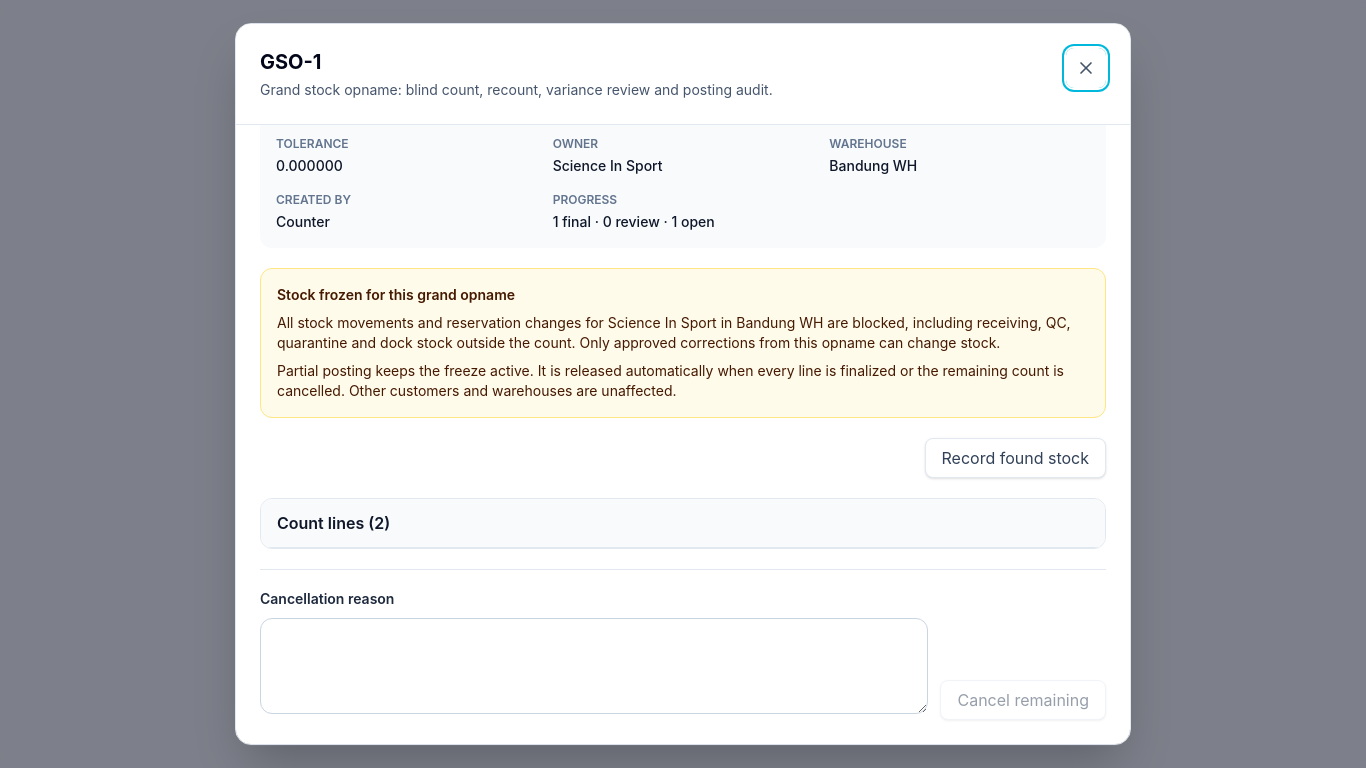
Scenario: keeps the customer and warehouse freeze visible during partial posting, then reflects cancellation
(page scrolled)
Expected: the message shows "Stock frozen for this grand opname", [277,286,515,303]
Expected: the message shows "Science In Sport in Bandung WH", [260,268,1106,418]
Type "Recount later" into the text box labelled "Cancellation reason" at (594, 666), box [260,618,928,714]
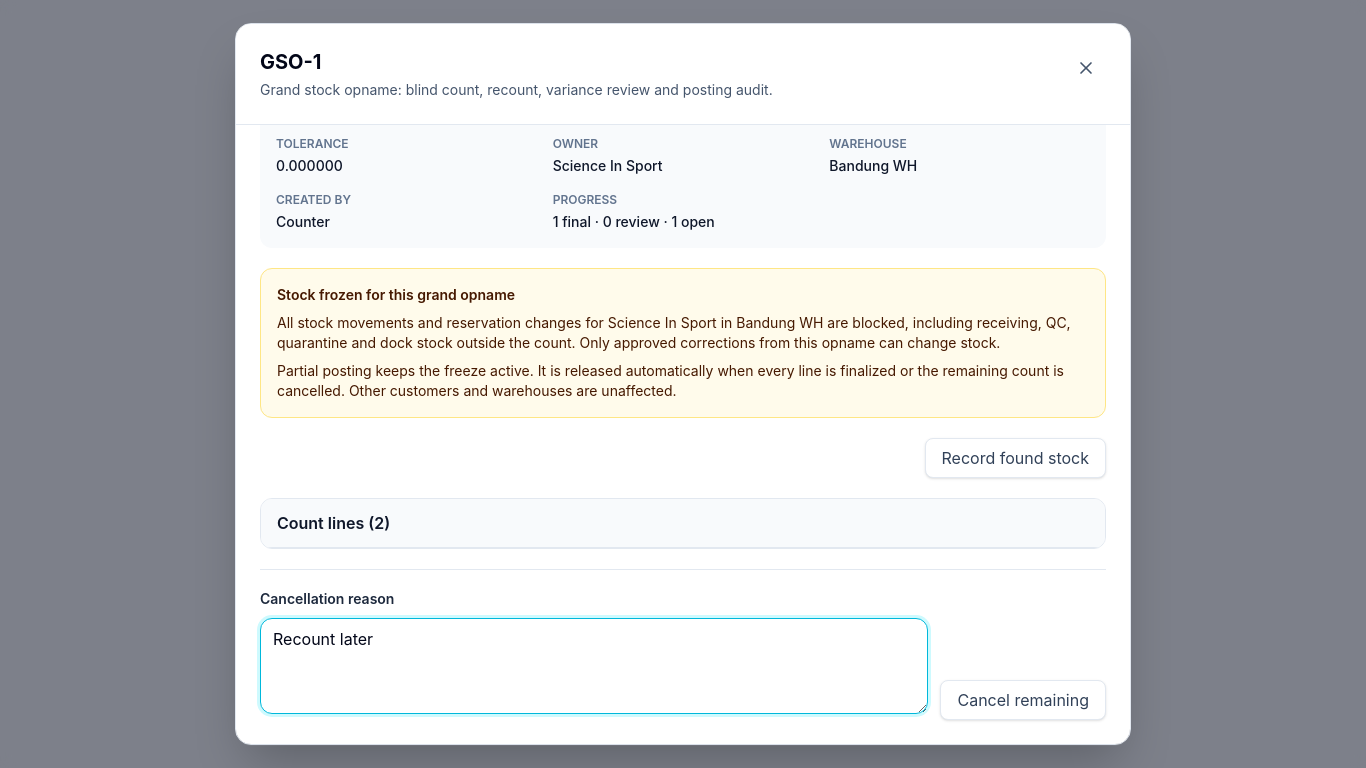
Click the button "Cancel remaining" at (1023, 700), box [940,680,1106,720]
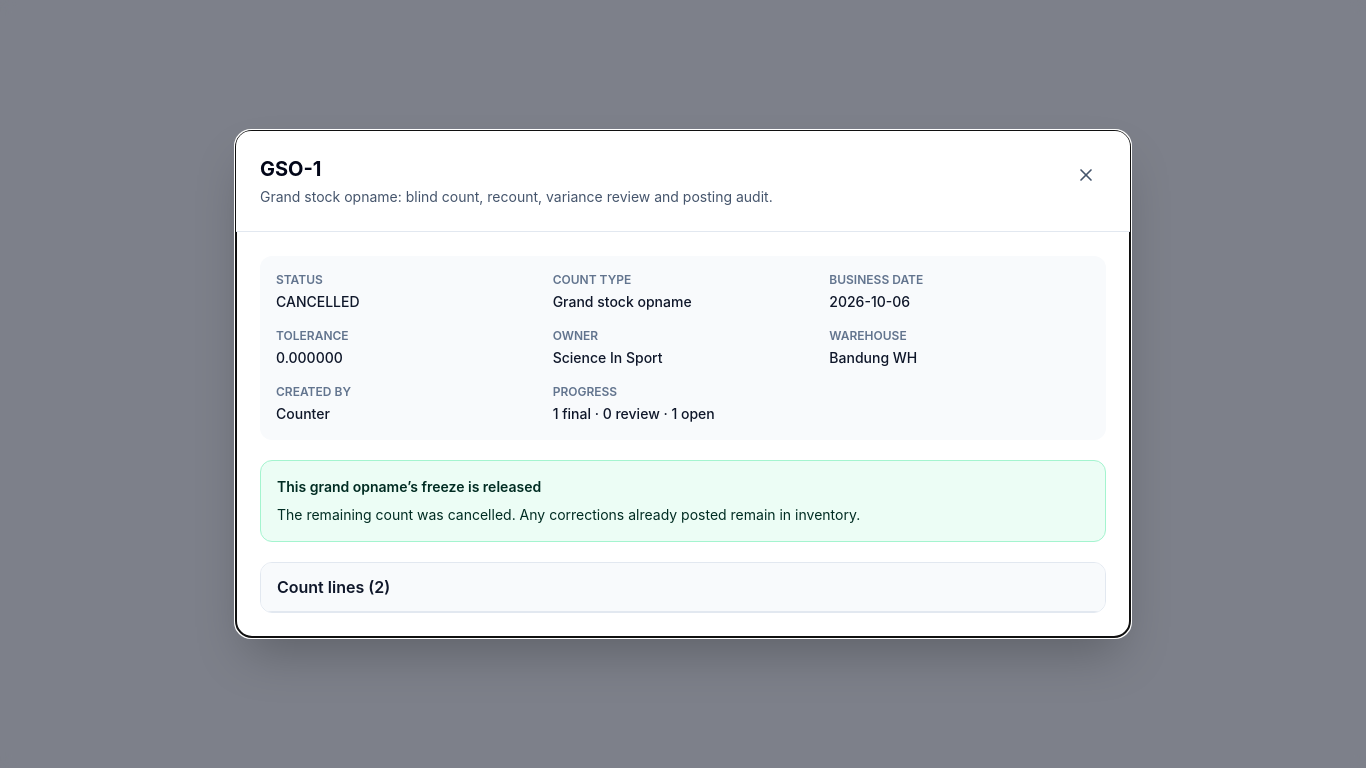
Expected: the text "This grand opname’s freeze is released" is shown, [277,478,541,495]
Expected: the message shows "Any corrections already posted remain in inventory", [277,506,860,523]
